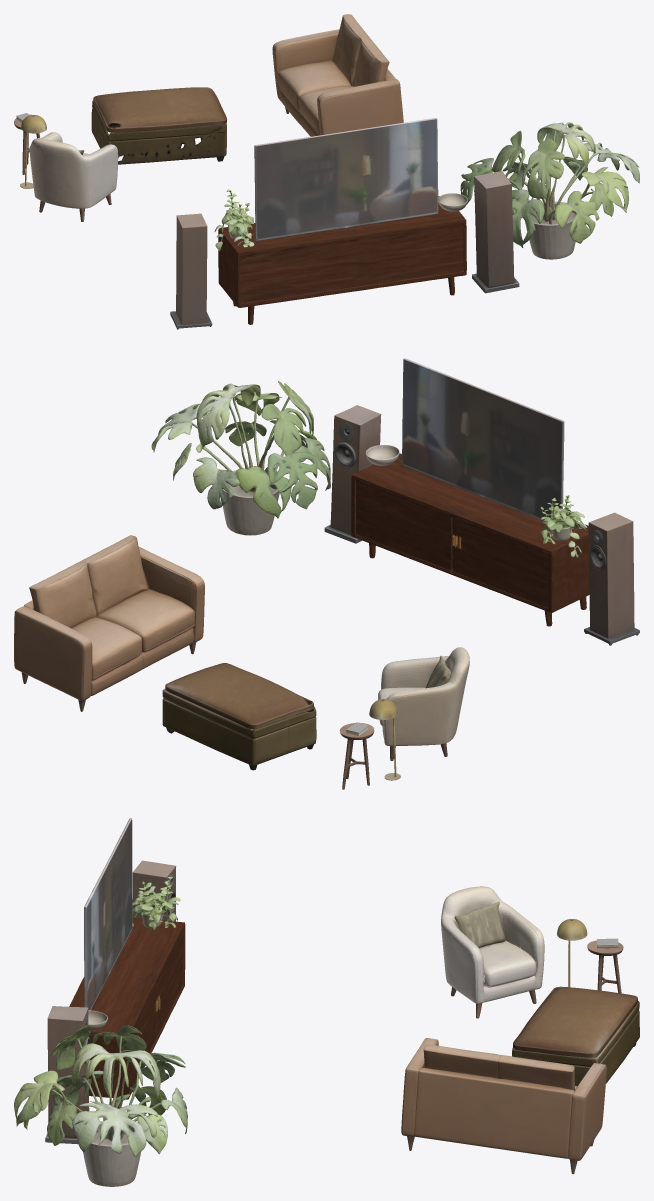
3 views of the same model, one above another, from view 1: azimuth 30°, elevation 25°; view 2: azimuth 150°, elevation 25°; view 3: azimuth 270°, elevation 25° (orthographic). The views are drawn at different scales.
Visible parts, largest first — view 1: obj_8_part_0, obj_0_part_0, obj_9_part_0, obj_2_part_0, obj_3_part_0, obj_1_part_1, obj_6_part_0, obj_1_part_0, obj_7_part_0, obj_10_part_0, obj_5_part_0, obj_11_part_0; view 2: obj_2_part_0, obj_8_part_0, obj_9_part_0, obj_0_part_0, obj_3_part_0, obj_0_part_2, obj_0_part_1, obj_1_part_0, obj_7_part_0, obj_1_part_1, obj_6_part_0, obj_10_part_0 (+2 smaller); view 3: obj_2_part_0, obj_9_part_0, obj_3_part_0, obj_0_part_0, obj_1_part_1, obj_8_part_0, obj_6_part_0, obj_1_part_0, obj_0_part_2, obj_10_part_0, obj_7_part_0, obj_0_part_1 (+2 smaller).
Boxes of the visible parts, x1=… form: obj_8_part_0: x1=254, y1=118, x2=438, y2=240; obj_0_part_0: x1=218, y1=196, x2=466, y2=324; obj_9_part_0: x1=460, y1=122, x2=639, y2=259; obj_2_part_0: x1=272, y1=14, x2=403, y2=136; obj_3_part_0: x1=29, y1=132, x2=118, y2=221; obj_1_part_1: x1=93, y1=87, x2=226, y2=132; obj_6_part_0: x1=472, y1=171, x2=519, y2=293; obj_1_part_0: x1=91, y1=101, x2=226, y2=164; obj_7_part_0: x1=170, y1=213, x2=212, y2=329; obj_10_part_0: x1=214, y1=189, x2=254, y2=251; obj_5_part_0: x1=20, y1=115, x2=46, y2=188; obj_11_part_0: x1=438, y1=193, x2=467, y2=212; obj_2_part_0: x1=14, y1=535, x2=204, y2=711; obj_8_part_0: x1=402, y1=358, x2=564, y2=520; obj_9_part_0: x1=151, y1=381, x2=330, y2=535; obj_0_part_0: x1=351, y1=453, x2=589, y2=626; obj_3_part_0: x1=378, y1=647, x2=469, y2=760; obj_0_part_2: x1=452, y1=517, x2=561, y2=612; obj_0_part_1: x1=351, y1=477, x2=453, y2=571; obj_1_part_0: x1=162, y1=688, x2=316, y2=770; obj_7_part_0: x1=584, y1=512, x2=639, y2=645; obj_1_part_1: x1=165, y1=663, x2=313, y2=729; obj_6_part_0: x1=324, y1=405, x2=381, y2=543; obj_10_part_0: x1=540, y1=495, x2=587, y2=558; obj_2_part_0: x1=401, y1=1038, x2=606, y2=1174; obj_9_part_0: x1=14, y1=1025, x2=187, y2=1186; obj_3_part_0: x1=441, y1=886, x2=544, y2=1018; obj_0_part_0: x1=69, y1=918, x2=185, y2=1108; obj_1_part_1: x1=513, y1=986, x2=637, y2=1057; obj_8_part_0: x1=84, y1=818, x2=132, y2=1010; obj_6_part_0: x1=45, y1=1006, x2=90, y2=1144; obj_1_part_0: x1=512, y1=988, x2=639, y2=1086; obj_0_part_2: x1=155, y1=921, x2=185, y2=1040; obj_10_part_0: x1=132, y1=876, x2=180, y2=931; obj_7_part_0: x1=132, y1=860, x2=176, y2=921; obj_0_part_1: x1=122, y1=982, x2=156, y2=1099.
Bounding box in the file's own units: 1.93 × 0.7195 × 2.04.
6 materials, 5 textured.
